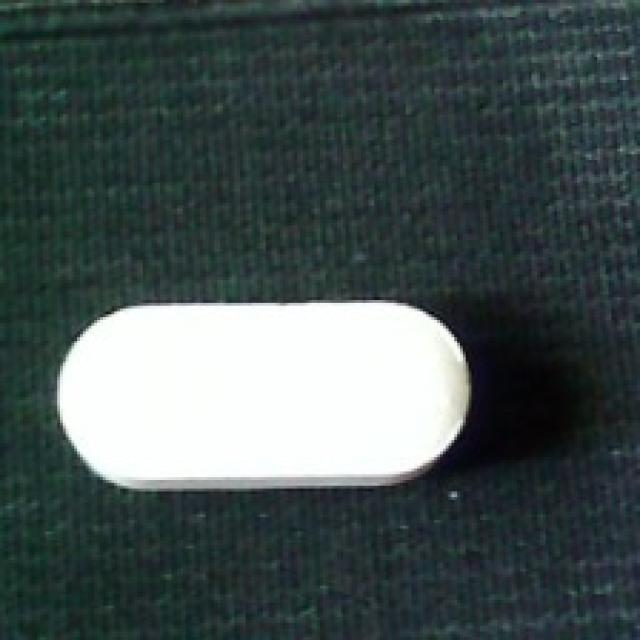no-defect: (54, 292, 474, 492)
